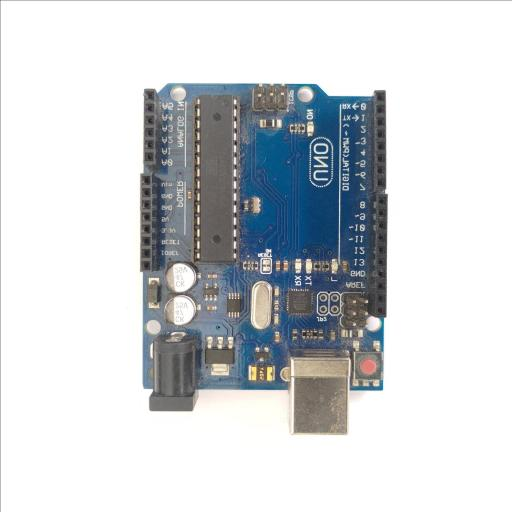Arduino Uno R3: (139, 82, 389, 434)
